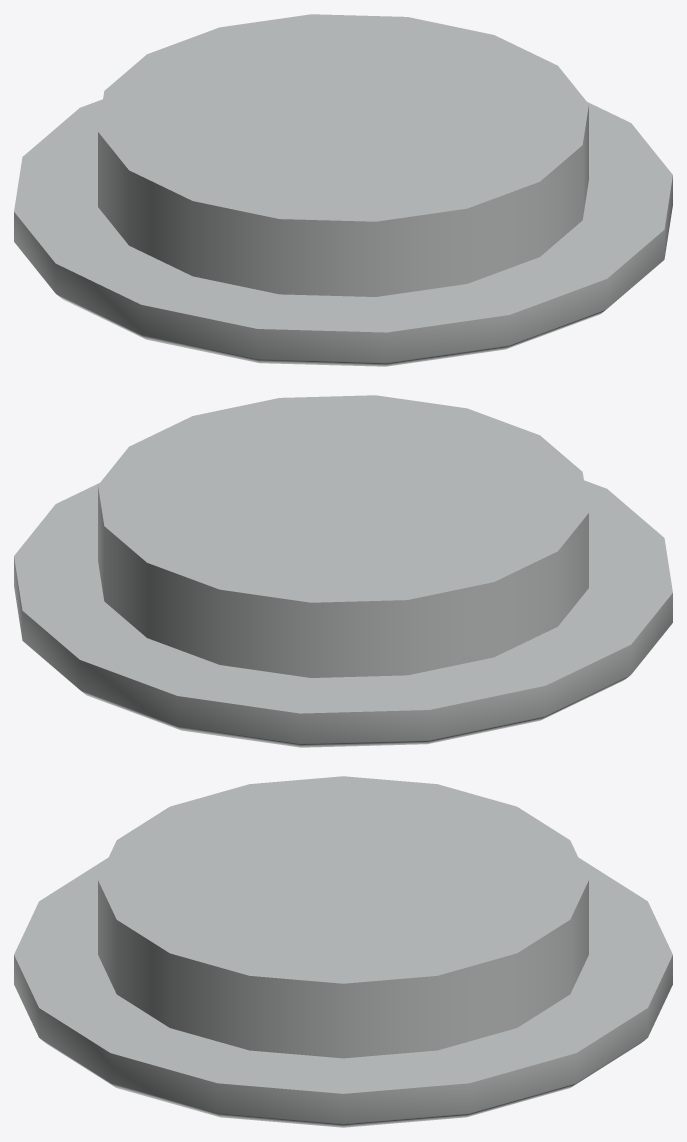
File: SM_CeilingLightSunk_01.fbx
3 views of the same model, one above another, from view 1: azimuth 30°, elevation 25°; view 2: azimuth 150°, elevation 25°; view 3: azimuth 270°, elevation 25° (orthographic).
Parts seen in each view (by area): view 1: SM_CeilingLightSunk_01_LOD0; view 2: SM_CeilingLightSunk_01_LOD0; view 3: SM_CeilingLightSunk_01_LOD0.
Part boxes in pixels (bbox=[...]): SM_CeilingLightSunk_01_LOD0: bbox=[14, 14, 672, 366]; SM_CeilingLightSunk_01_LOD0: bbox=[14, 395, 672, 747]; SM_CeilingLightSunk_01_LOD0: bbox=[14, 776, 672, 1127].
Size of the model in its own units: 8 by 8 by 1.5.
